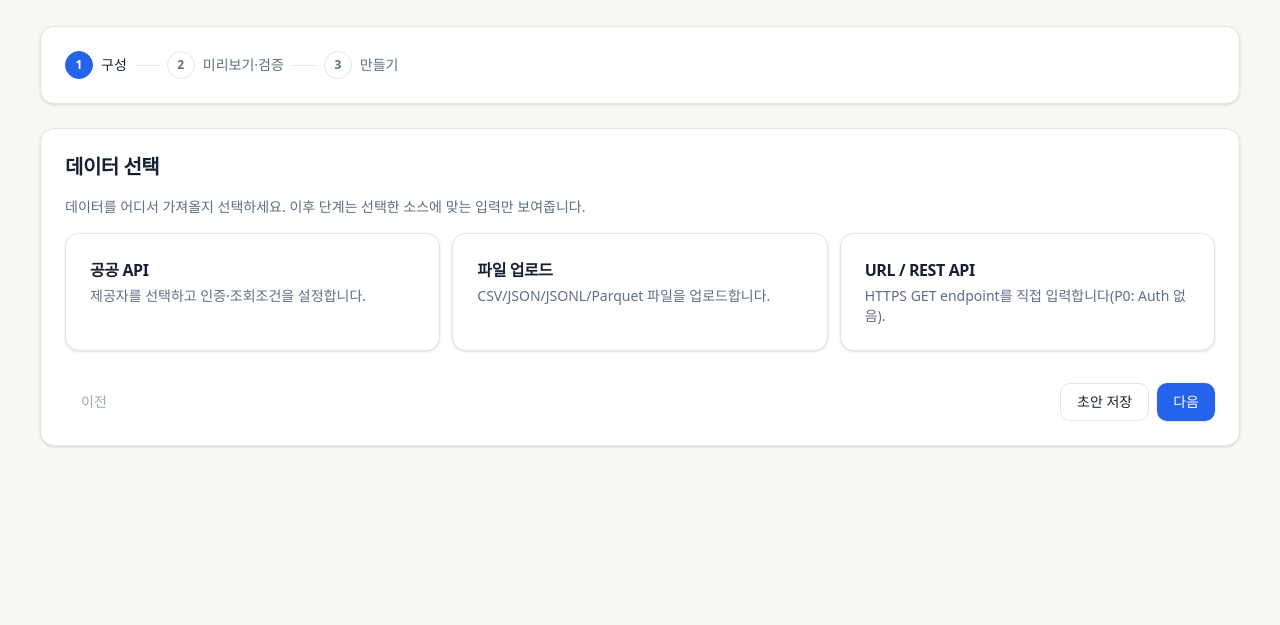
Test: Create Table — coming from the Catalog (#842) › does not speak of the Catalog when a catalogue failure has nothing to do with it
This screenshot has width=1280, height=625.
Click the button "공공 API 제공자를 선택하고 인증·조회조건을 설정합니다." at (253, 292), box x1=65 y1=233 x2=440 y2=351
(page scrolled)
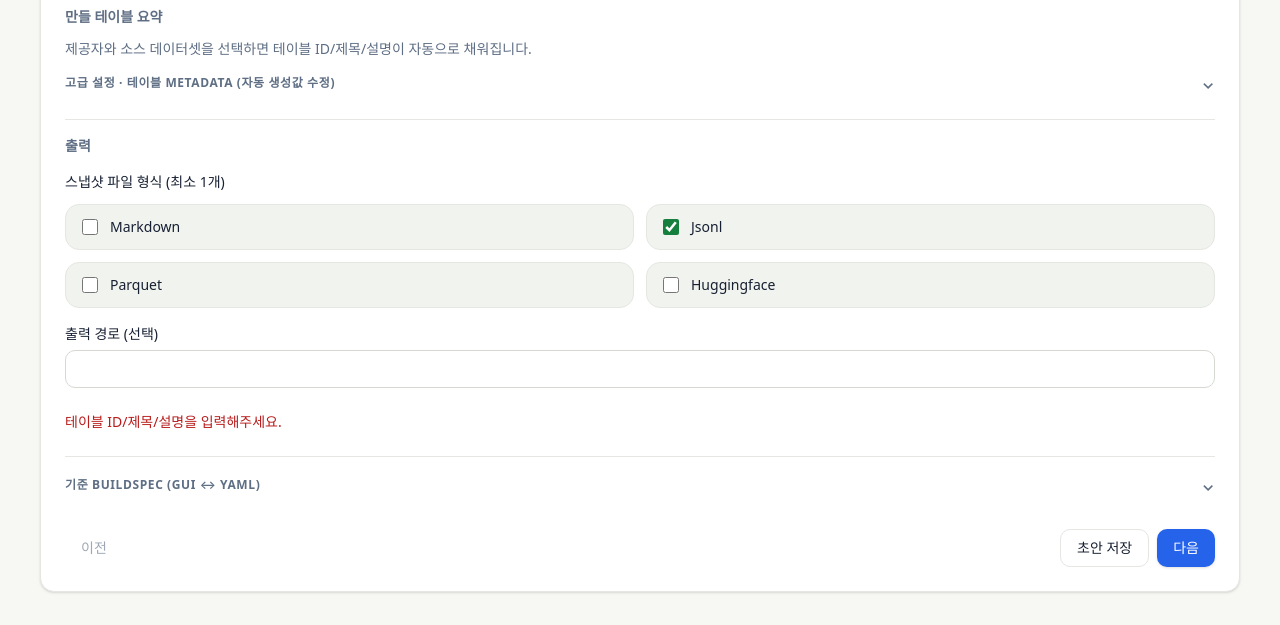
Click the button "다음" at (1186, 548), box x1=1157 y1=529 x2=1215 y2=567
(page scrolled)
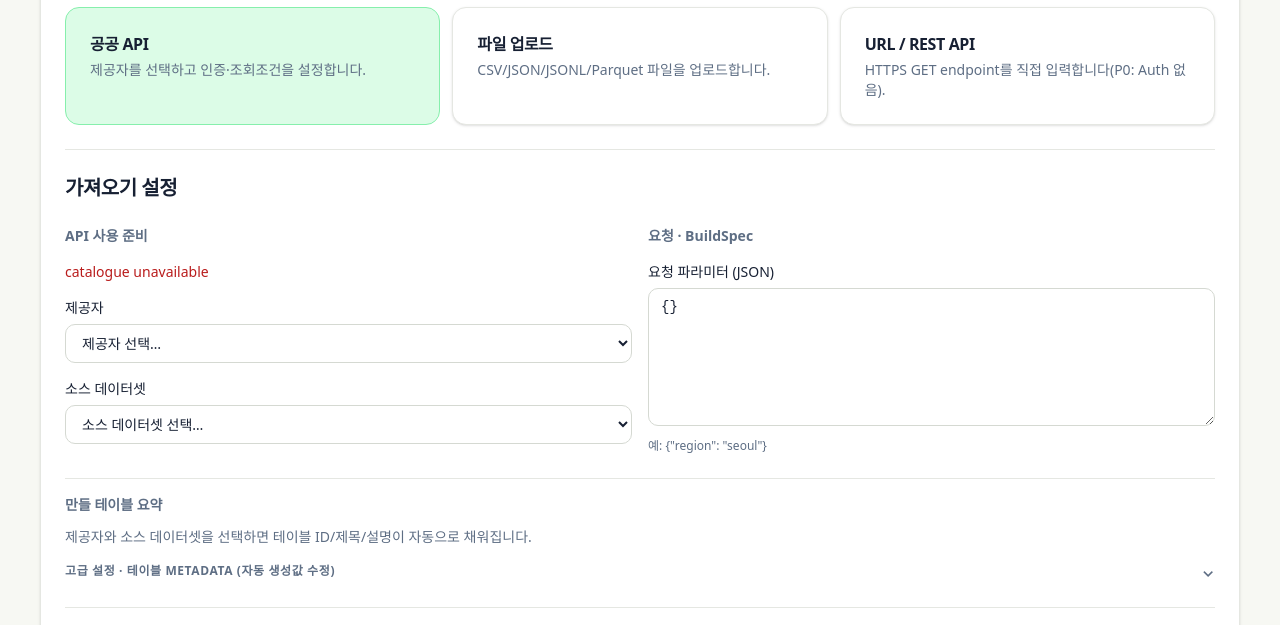
Now the text "catalogue unavailable" is shown, box x1=65 y1=262 x2=209 y2=281
